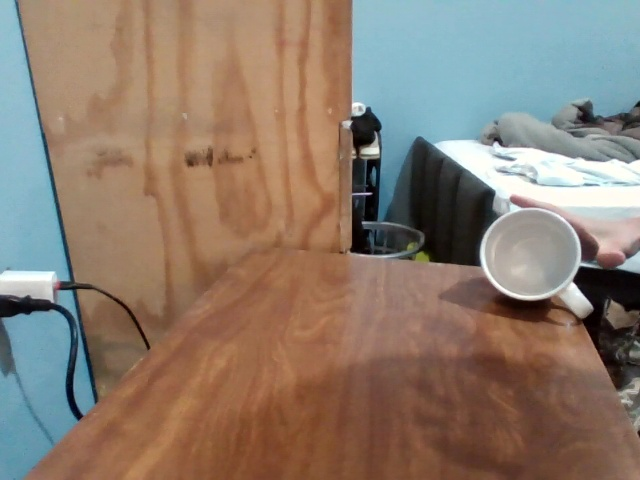taza: (479, 208, 594, 321)
